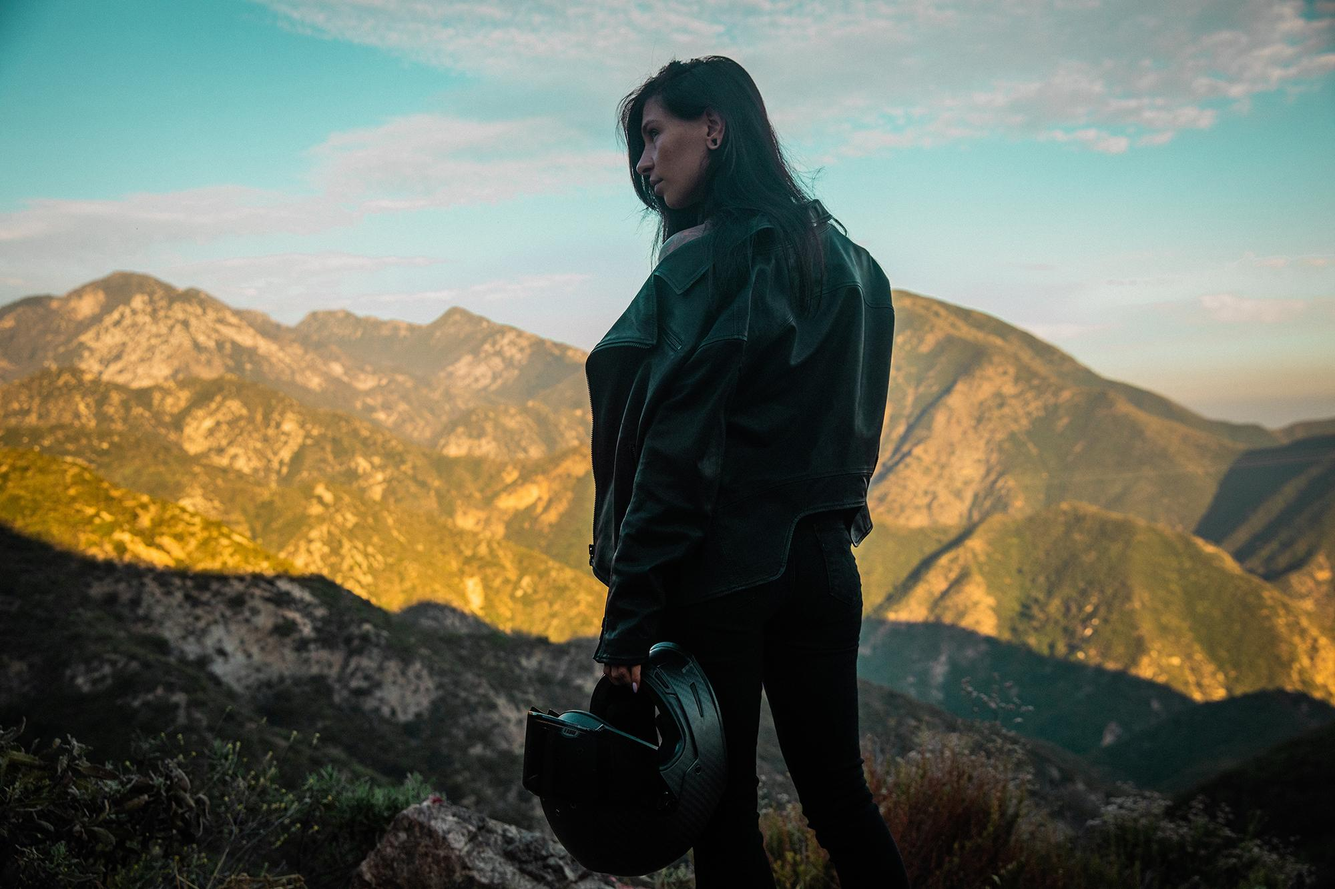helmet: (521, 637, 731, 879)
nohelmet: (614, 53, 769, 215)
